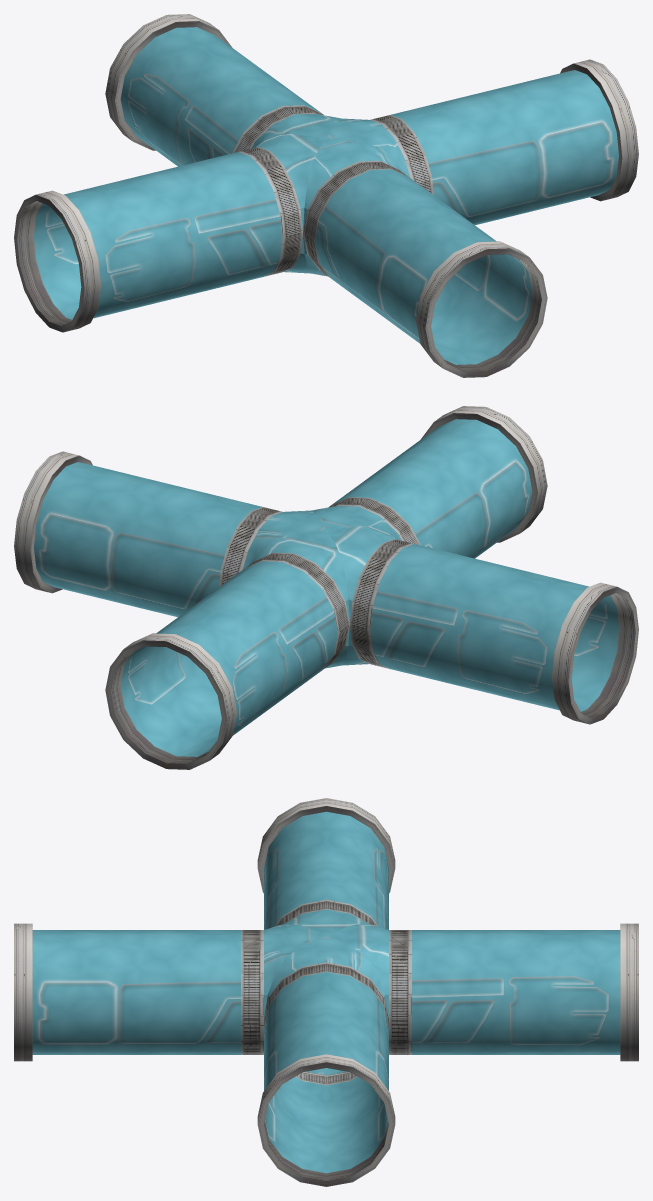
Rendered from XTubeCross.DAE.
The picture shows the model from 3 angles, top to bottom: view 1: azimuth 30°, elevation 25°; view 2: azimuth 150°, elevation 25°; view 3: azimuth 270°, elevation 25°; orthographic projection. The views are drawn at different scales.
Parts seen in each view (by area): view 1: HighRiseD, ElevatorGlass; view 2: HighRiseD, ElevatorGlass; view 3: HighRiseD, ElevatorGlass.
Boxes of the visible parts, left/top/right/bottom form: HighRiseD: left=34, top=27, right=618, bottom=364; ElevatorGlass: left=14, top=14, right=638, bottom=377; HighRiseD: left=34, top=419, right=618, bottom=756; ElevatorGlass: left=14, top=406, right=638, bottom=769; HighRiseD: left=32, top=811, right=620, bottom=1173; ElevatorGlass: left=14, top=798, right=638, bottom=1186.
Size of the model in its own units: 20 by 20 by 4.41.
